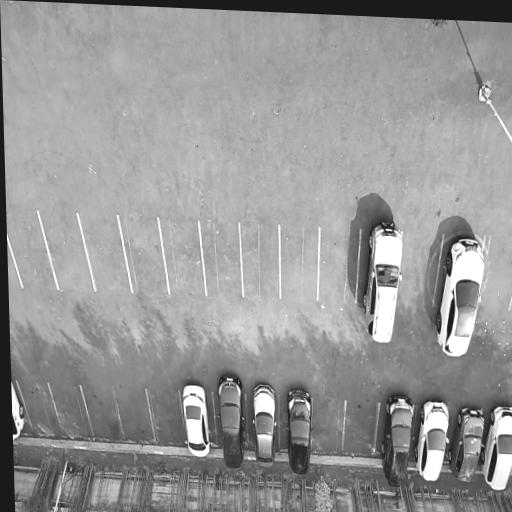Car: (431, 235, 488, 362), (361, 219, 405, 349), (378, 393, 416, 492), (411, 399, 452, 486), (446, 405, 486, 490), (215, 374, 247, 472), (478, 404, 512, 495), (179, 384, 214, 460), (285, 386, 312, 479), (251, 384, 278, 470), (11, 373, 29, 444)
Space Available: (38, 213, 95, 291), (78, 214, 132, 293), (6, 210, 58, 290), (118, 217, 169, 295), (159, 220, 206, 295), (199, 222, 243, 297), (318, 228, 361, 304), (400, 233, 444, 307), (280, 226, 319, 301), (240, 224, 279, 298), (17, 383, 63, 435), (479, 240, 512, 312), (113, 388, 155, 443), (48, 385, 93, 436), (80, 386, 124, 438), (146, 391, 186, 443), (343, 401, 380, 456), (312, 399, 346, 453)
